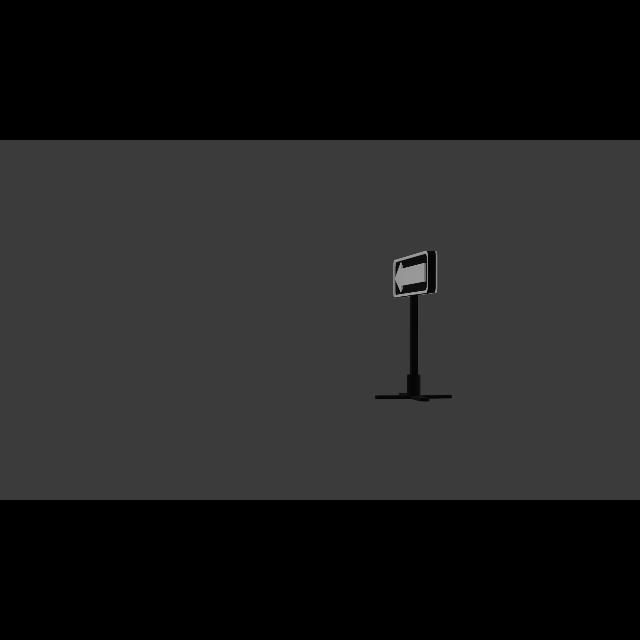sign_oneway_left: (393, 252, 440, 303)
